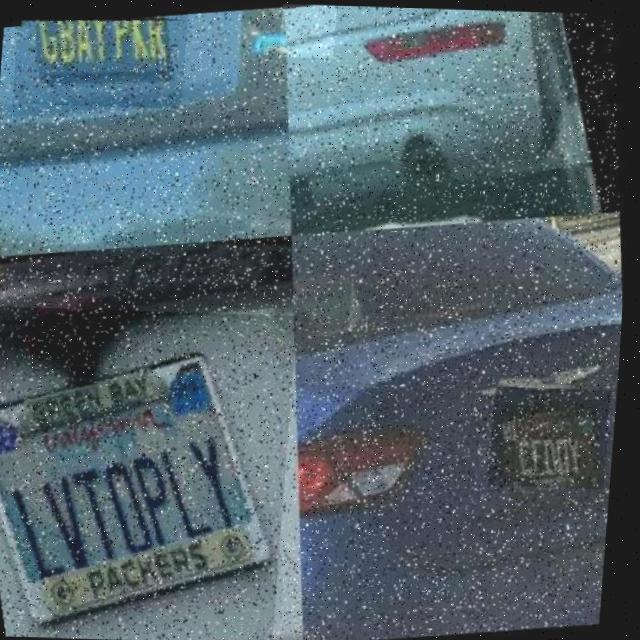LicensePlate: (0, 305, 301, 640), (13, 6, 188, 108), (499, 388, 610, 484), (279, 3, 336, 57)
